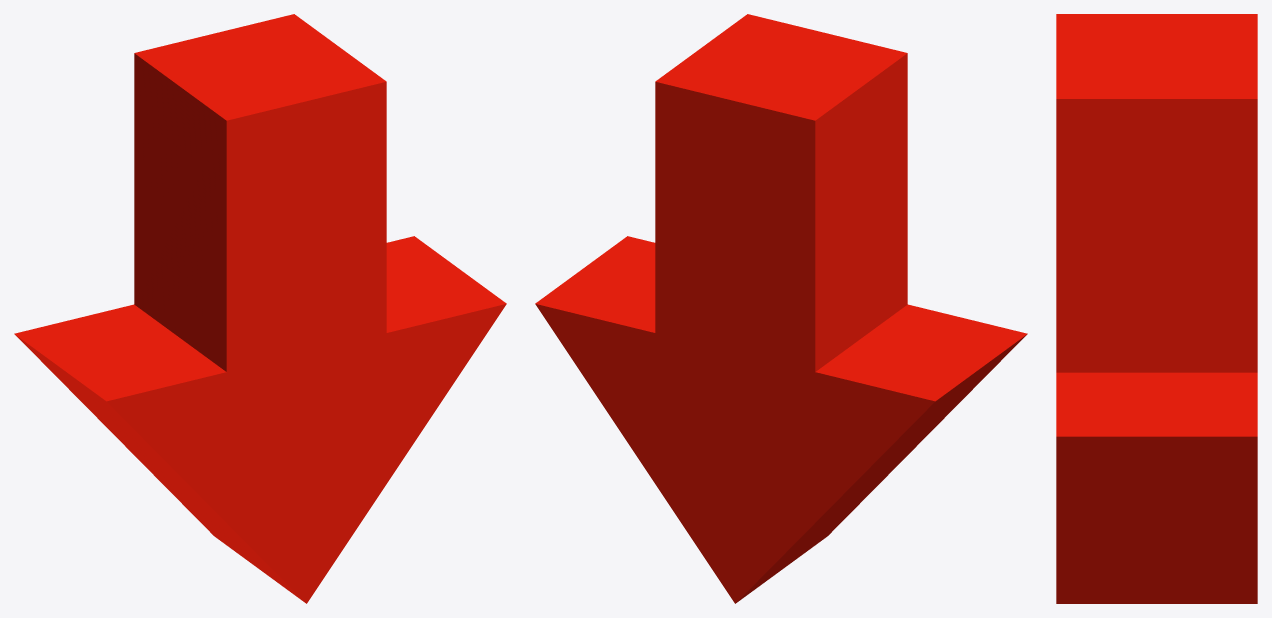
File: Arrow.fbx
The picture shows the model from 3 angles, left to right: view 1: azimuth 30°, elevation 25°; view 2: azimuth 150°, elevation 25°; view 3: azimuth 270°, elevation 25°; orthographic projection. The views are drawn at different scales.
Parts seen in each view (by area): view 1: Arrow; view 2: Arrow; view 3: Arrow.
Part boxes in pixels (x1,y1,x2,y2): Arrow: (14, 14, 506, 603); Arrow: (535, 14, 1027, 603); Arrow: (1056, 14, 1257, 603).
Size of the model in its own units: 167 by 200 by 66.67.
